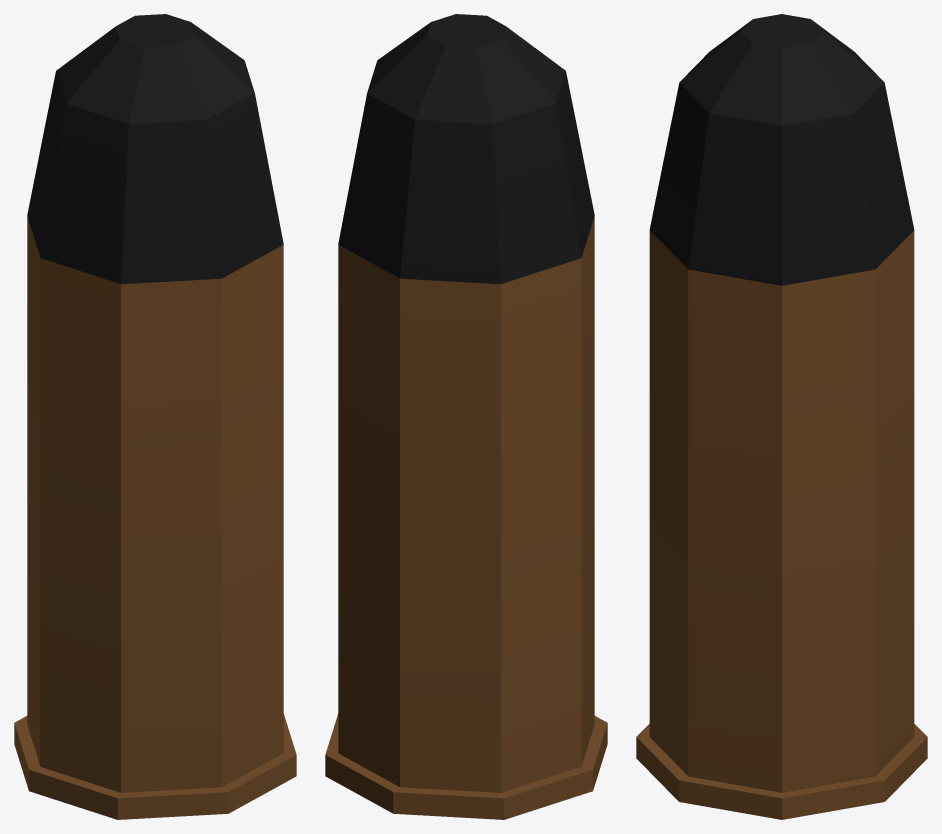
The model's file is Revolver_Bullet.fbx.
3 views of the same model, side by side, from view 1: azimuth 30°, elevation 25°; view 2: azimuth 150°, elevation 25°; view 3: azimuth 270°, elevation 25° (orthographic).
Visible parts, largest first — view 1: Revolver.001; view 2: Revolver.001; view 3: Revolver.001.
Part boxes in pixels (<box>): Revolver.001: <box>14,14,296,819</box>; Revolver.001: <box>325,14,607,819</box>; Revolver.001: <box>636,14,927,819</box>.
Bounding box in the file's own units: 7.88 × 21.7 × 7.88.
